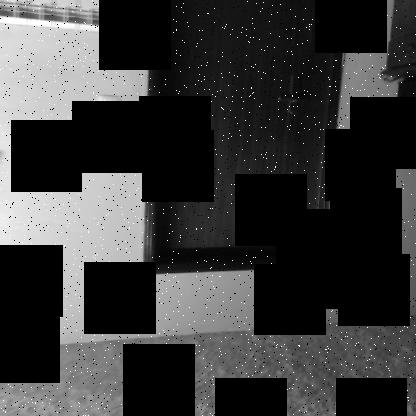Porte: (141, 0, 353, 276)
